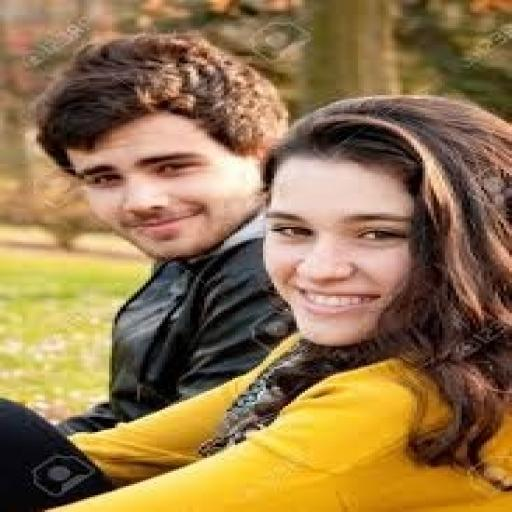sitting: (0, 91, 509, 510)
